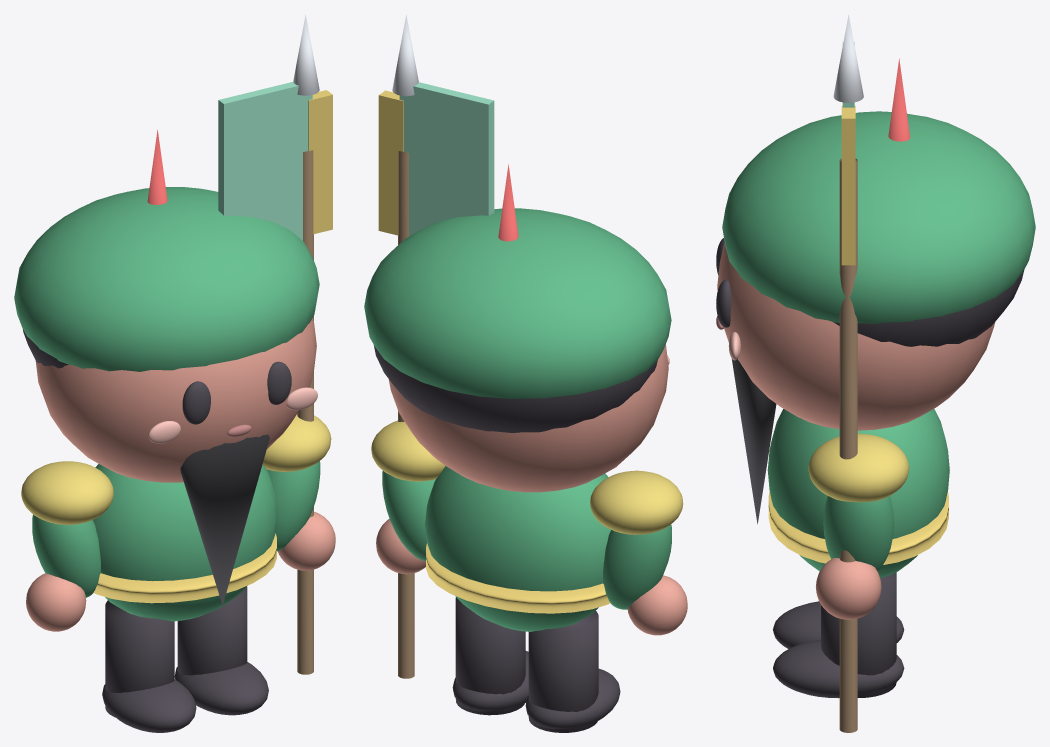
File: guanyu.fbx
3 views of the same model, side by side, from view 1: azimuth 30°, elevation 25°; view 2: azimuth 150°, elevation 25°; view 3: azimuth 270°, elevation 25° (orthographic). The views are drawn at different scales.
Visible parts, largest first — view 1: helmet, head_mesh, body, wp_blade, beard, leg, pauldron.001, leg.001, belt, arm_mesh.001, shoe, shoe.001 (+12 smaller); view 2: helmet, body, head_mesh, wp_blade, hair, leg, leg.001, pauldron.001, belt, arm_mesh.001, wp_blade_back, arm_mesh (+8 smaller); view 3: helmet, head_mesh, body, wp_shaft, pauldron, leg.001, arm_mesh, hair, shoe.001, beard, hand_mesh, belt (+5 smaller).
Boxes of the visible parts, x1,y1,x2,y2 form: helmet: (14, 187, 319, 371); head_mesh: (35, 318, 316, 482); body: (93, 464, 277, 621); wp_blade: (218, 82, 312, 240); beard: (180, 434, 269, 605); leg: (105, 600, 174, 717); pauldron.001: (21, 461, 113, 524); leg.001: (177, 587, 247, 675); belt: (93, 533, 276, 603); arm_mesh.001: (32, 514, 100, 597); shoe: (102, 679, 196, 732); shoe.001: (174, 662, 268, 715); helmet: (364, 208, 671, 398); body: (425, 466, 610, 631); head_mesh: (388, 344, 668, 492); wp_blade: (399, 82, 494, 236); hair: (374, 345, 657, 432); leg: (528, 611, 598, 732); leg.001: (455, 597, 525, 715); pauldron.001: (590, 470, 683, 534); belt: (426, 543, 610, 613); arm_mesh.001: (603, 524, 671, 609); wp_blade_back: (378, 90, 403, 235); arm_mesh: (382, 471, 435, 561); helmet: (722, 111, 1035, 323); head_mesh: (717, 243, 995, 430); body: (767, 409, 949, 578); wp_shaft: (839, 158, 857, 732); pauldron: (808, 433, 909, 502); leg.001: (821, 572, 896, 697); arm_mesh: (823, 496, 894, 571); hair: (834, 270, 1024, 346); shoe.001: (773, 639, 904, 698); beard: (732, 359, 776, 523); hand_mesh: (816, 558, 881, 619); belt: (768, 491, 948, 564).
Bounding box in the file's own units: 0.75 × 1.58 × 0.632.
